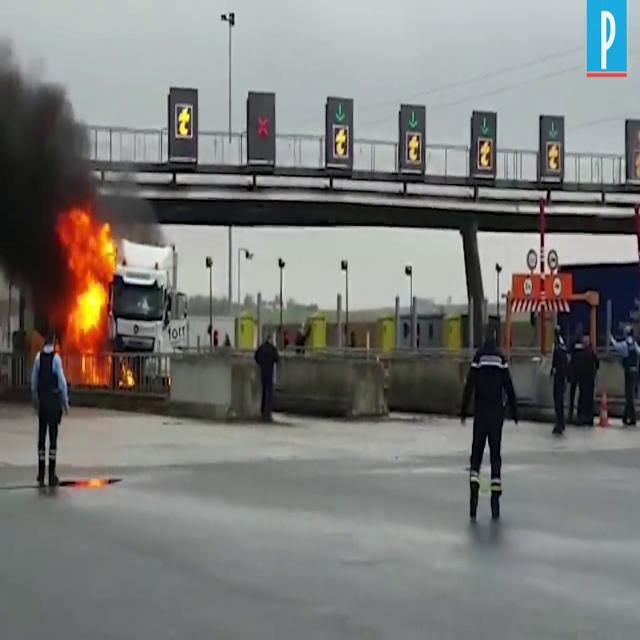Fire: (54, 204, 122, 384)
Smoke: (0, 0, 98, 300)
